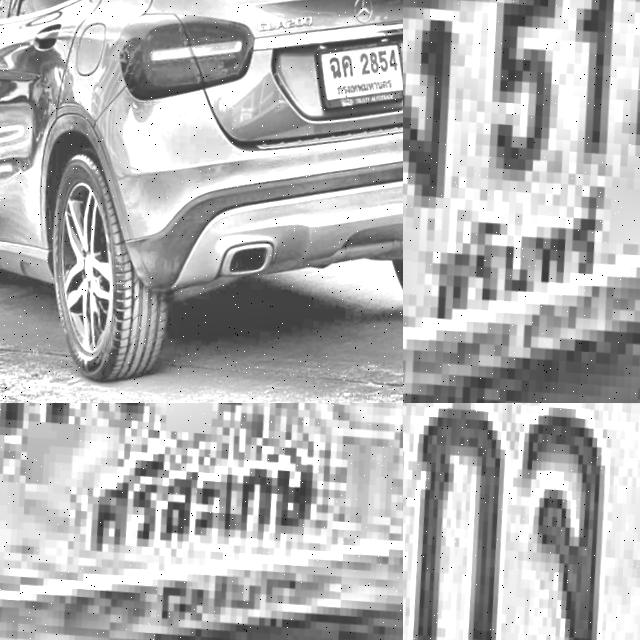license-plate: (403, 0, 640, 403), (0, 403, 403, 640), (403, 403, 640, 640), (303, 33, 403, 125)
